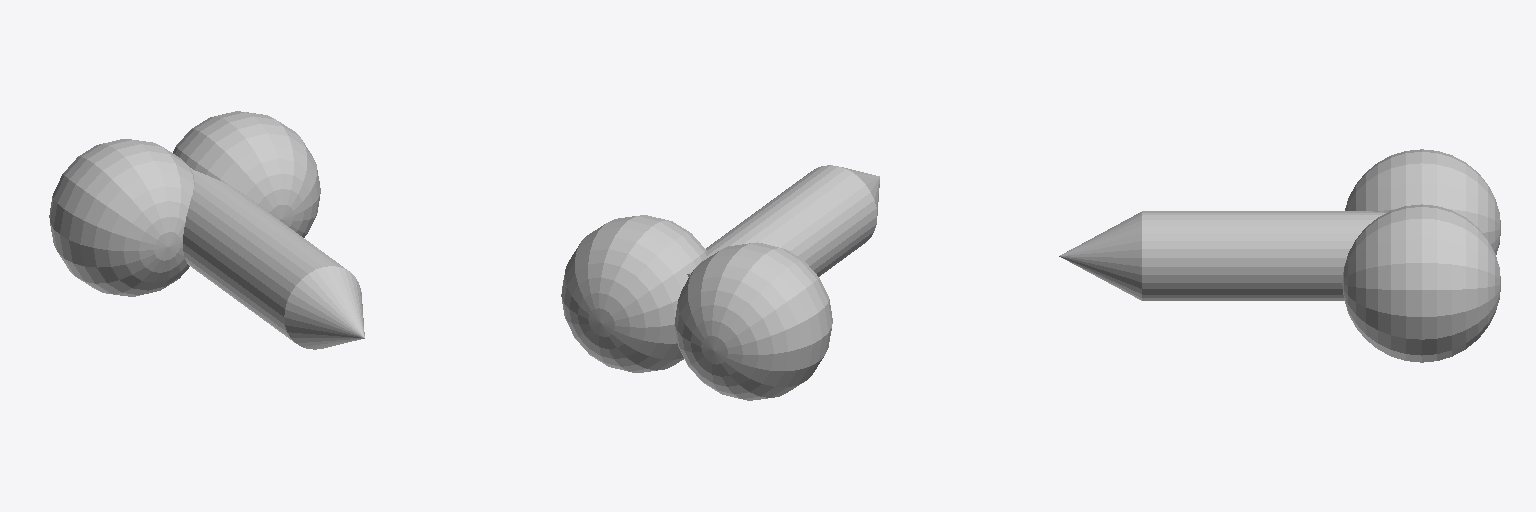
Rendered from SpaceShipTemp.obj.
3 views of the same model, side by side, from view 1: azimuth 30°, elevation 25°; view 2: azimuth 150°, elevation 25°; view 3: azimuth 270°, elevation 25° (orthographic).
Visible parts, largest first — view 1: Cylinder; view 2: Cylinder; view 3: Cylinder.
Part boxes in pixels (x1,y1,x2,y2): Cylinder: (49,111,364,349); Cylinder: (561,165,879,400); Cylinder: (1059,149,1500,362).
Bounding box in the file's own units: 0.4375 × 0.2367 × 0.6694.